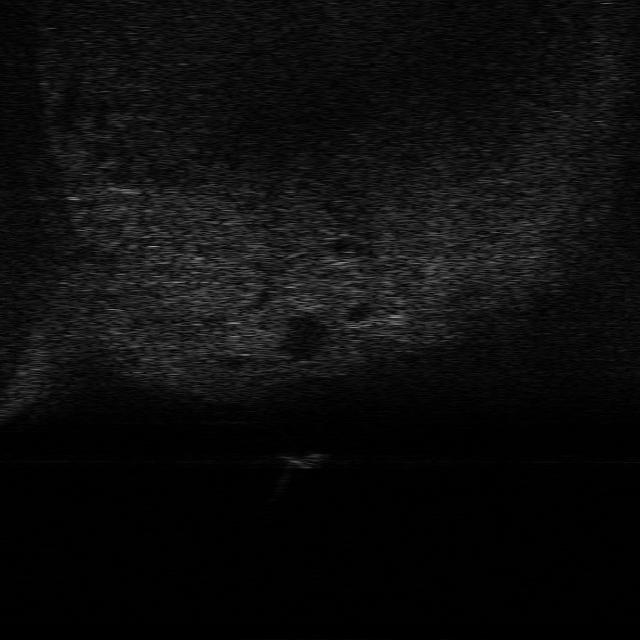cube: (274, 446, 330, 470)
